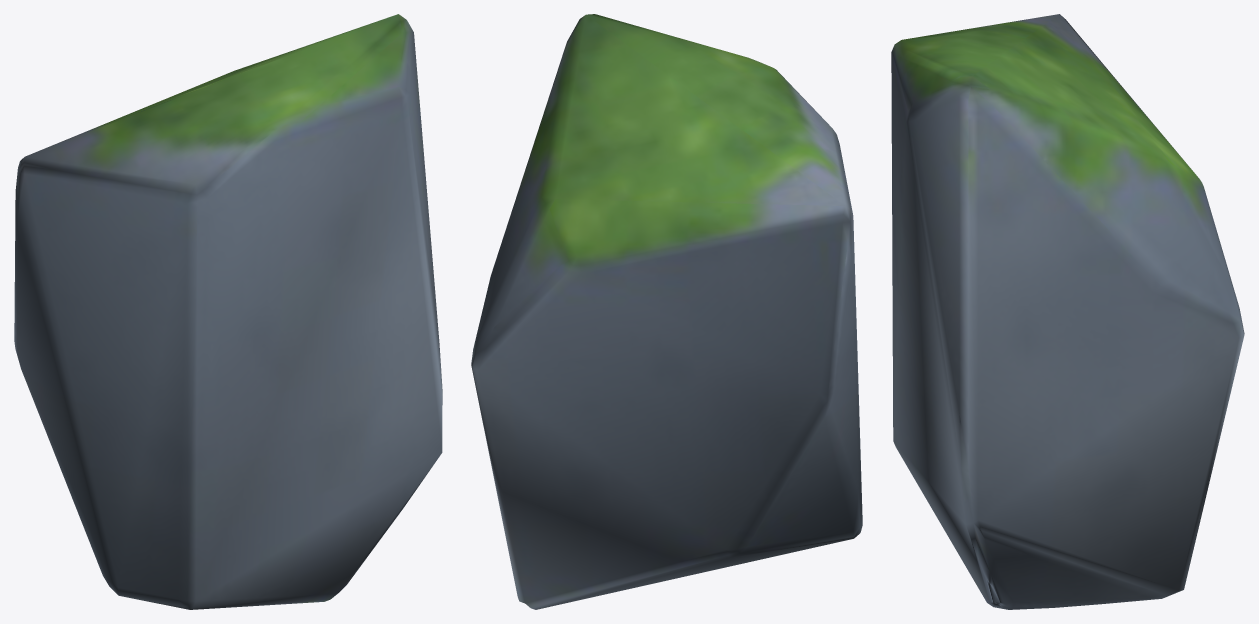
File: rock_c_lod1.glb
3 views of the same model, side by side, from view 1: azimuth 30°, elevation 25°; view 2: azimuth 150°, elevation 25°; view 3: azimuth 270°, elevation 25° (orthographic). The views are drawn at different scales.
Parts seen in each view (by area): view 1: rock_c_lod1; view 2: rock_c_lod1; view 3: rock_c_lod1.
Boxes of the visible parts, x1,y1,x2,y2 form: rock_c_lod1: (14,14,442,609); rock_c_lod1: (471,14,862,609); rock_c_lod1: (891,14,1244,609).
Bounding box in the file's own units: 0.9766 × 1.42 × 0.813.
Materials: 1 (1 with a texture image).
